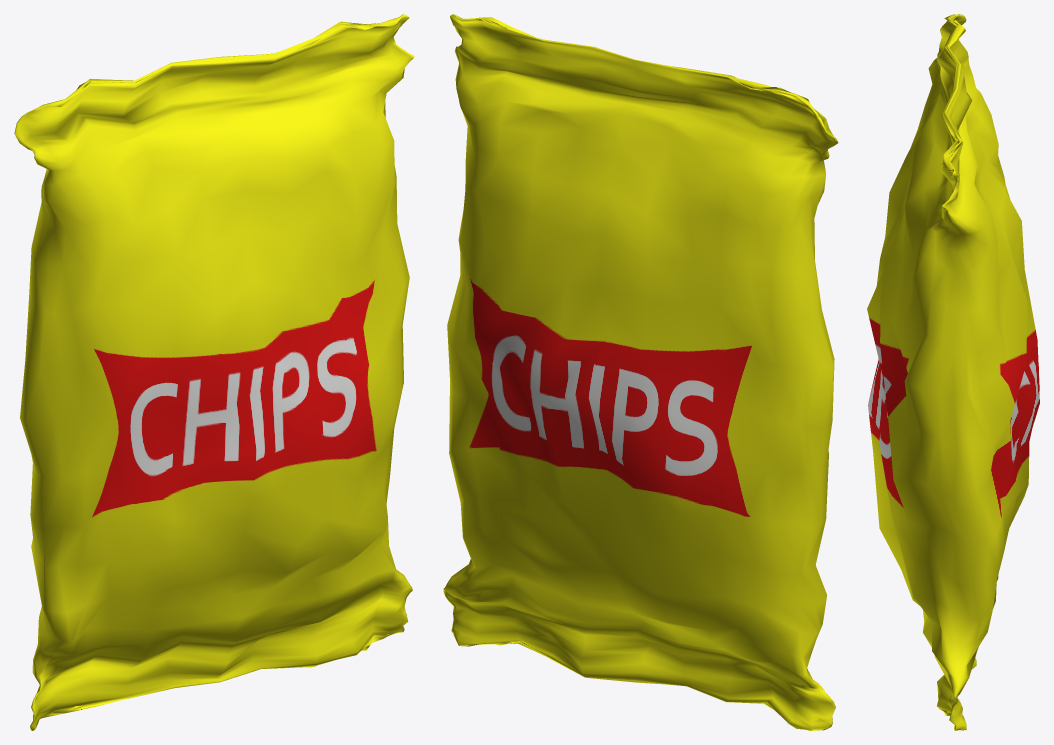
The model's file is bag of snack.FBX.
3 views of the same model, side by side, from view 1: azimuth 30°, elevation 25°; view 2: azimuth 150°, elevation 25°; view 3: azimuth 270°, elevation 25° (orthographic). The views are drawn at different scales.
Parts seen in each view (by area): view 1: Box001; view 2: Box001; view 3: Box001.
Boxes of the visible parts, x1,y1,x2,y2 form: Box001: (14,14,414,730); Box001: (443,14,838,730); Box001: (867,14,1039,730).
Bounding box in the file's own units: 10.9 × 16.72 × 4.55.
1 material, 1 textured.
